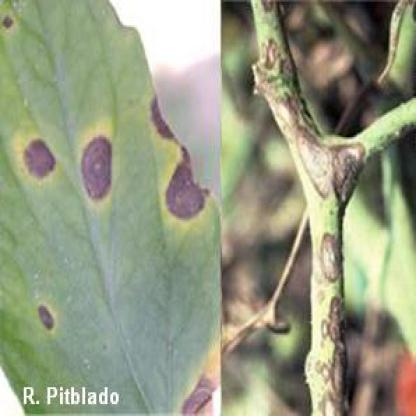Tomato Early blight leaf: (3, 3, 218, 408)
